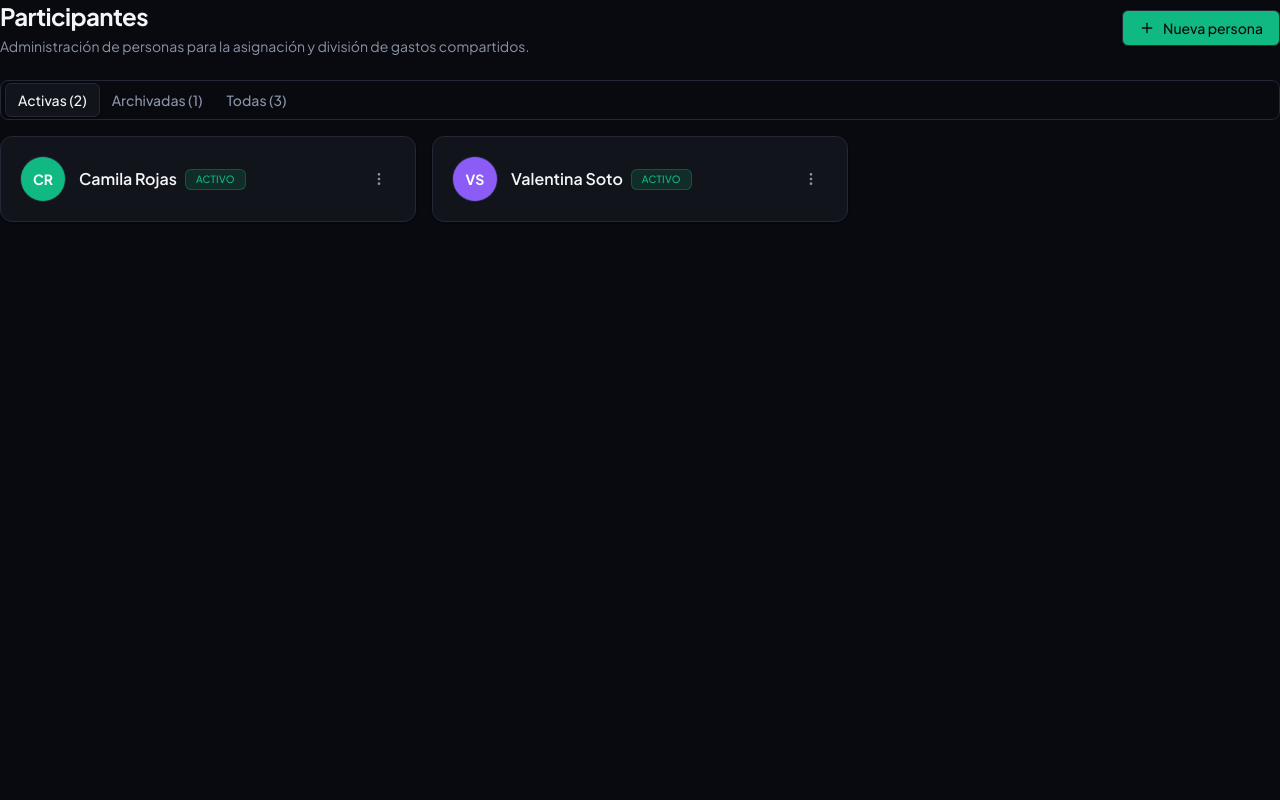
it: PersonsView Component (Spec 003 T9) › handles 409 Conflict in deletion: closes DeleteDialog and opens ArchivePersonAlertDialog
This screenshot has width=1280, height=800.
Click the button named "acciones para camila rojas". click: (379, 179)
box: 363,163 -> 395,195
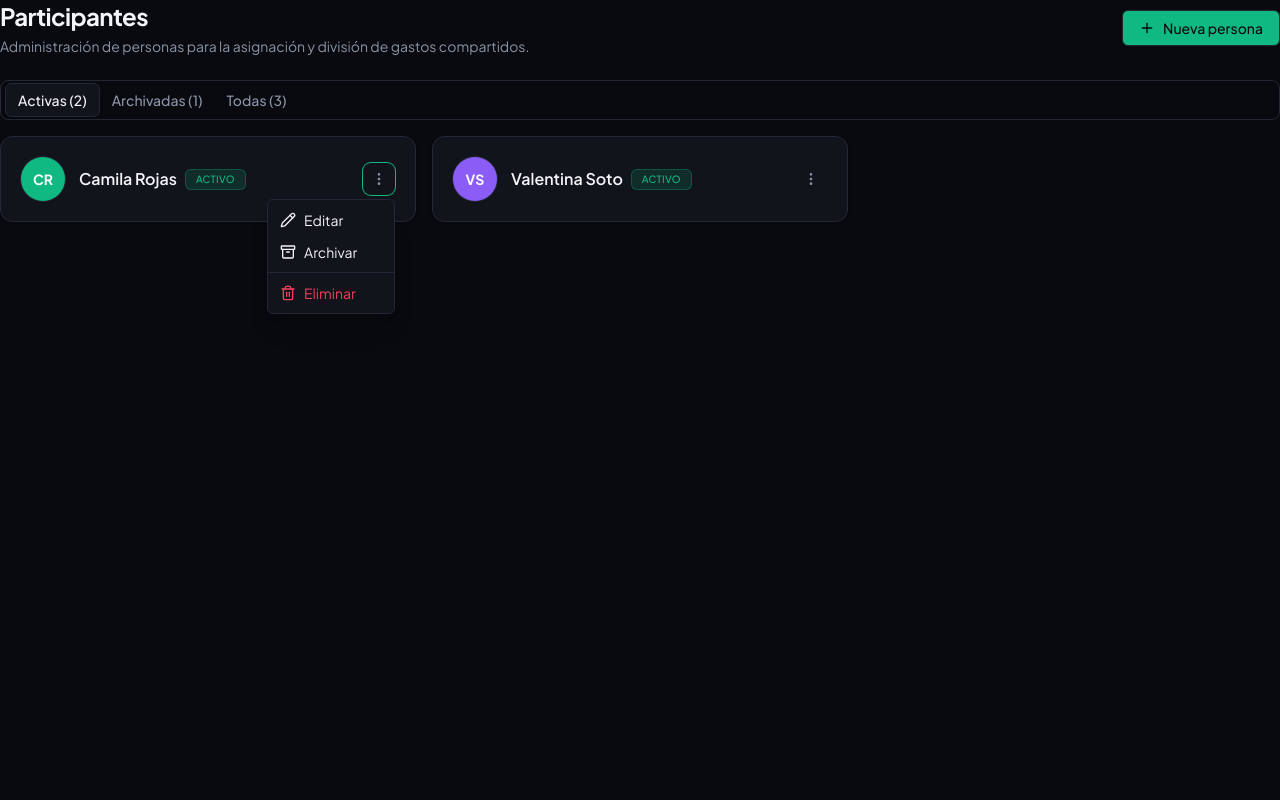
Click the menu item "Eliminar". click: (331, 293)
box: 272,277 -> 390,309
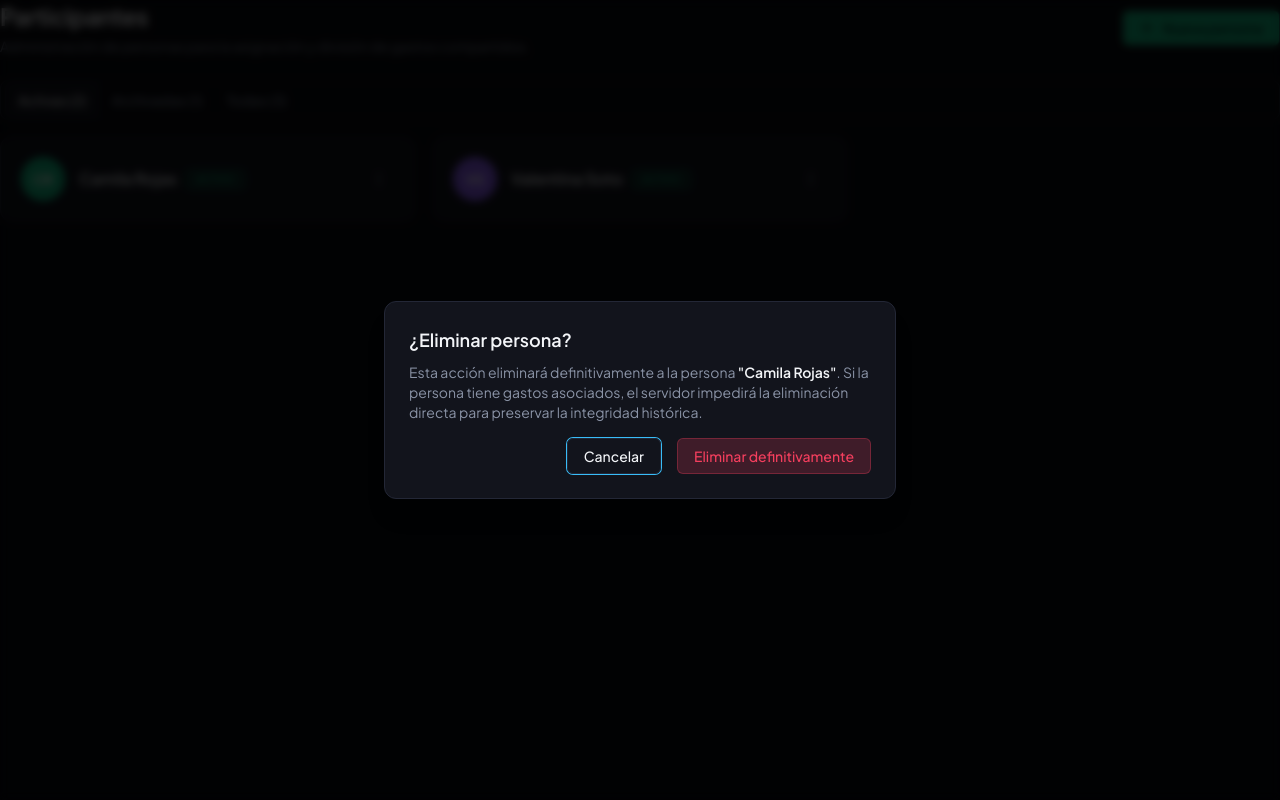
Click the button "Eliminar definitivamente". click: (774, 456)
box: 677,438 -> 871,474
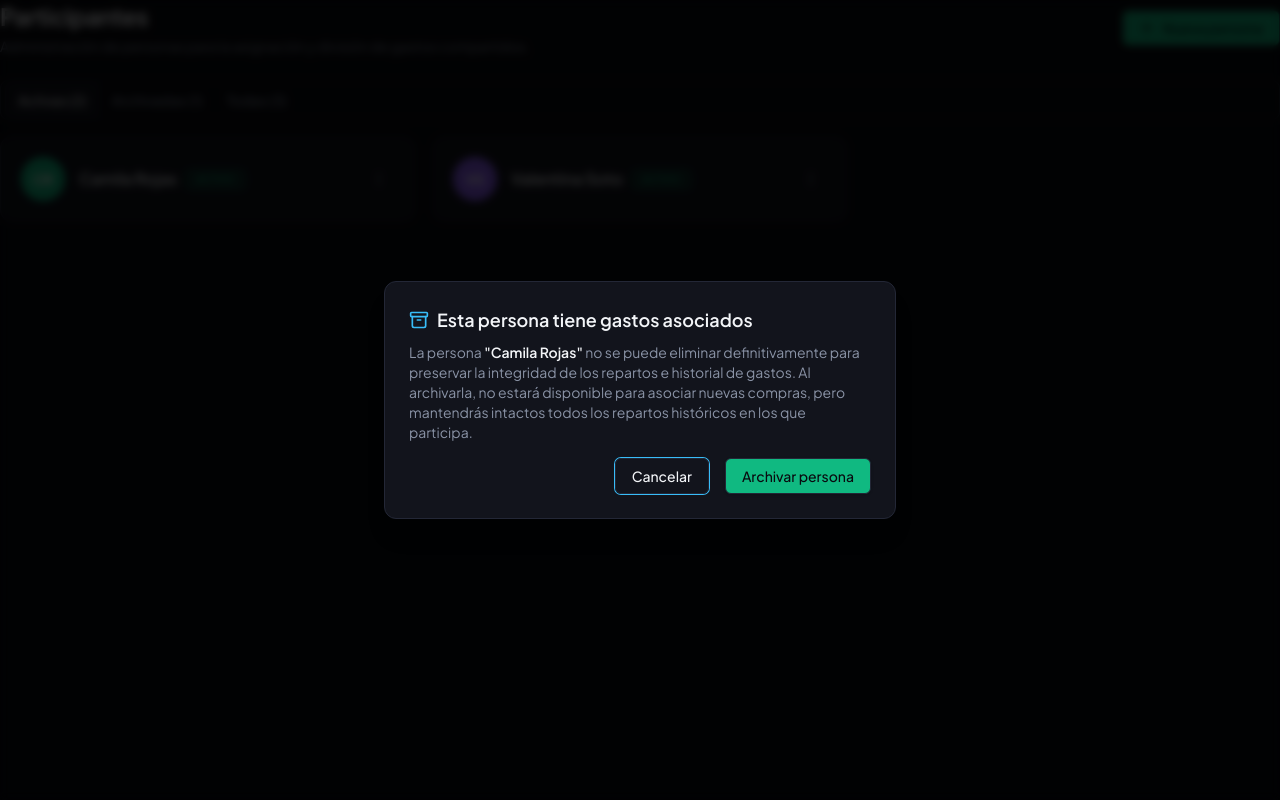
Now the heading "Esta persona tiene gastos asociados" is shown, box 409,308 -> 753,331
Now the button "Archivar persona" is shown, box 725,458 -> 871,494
